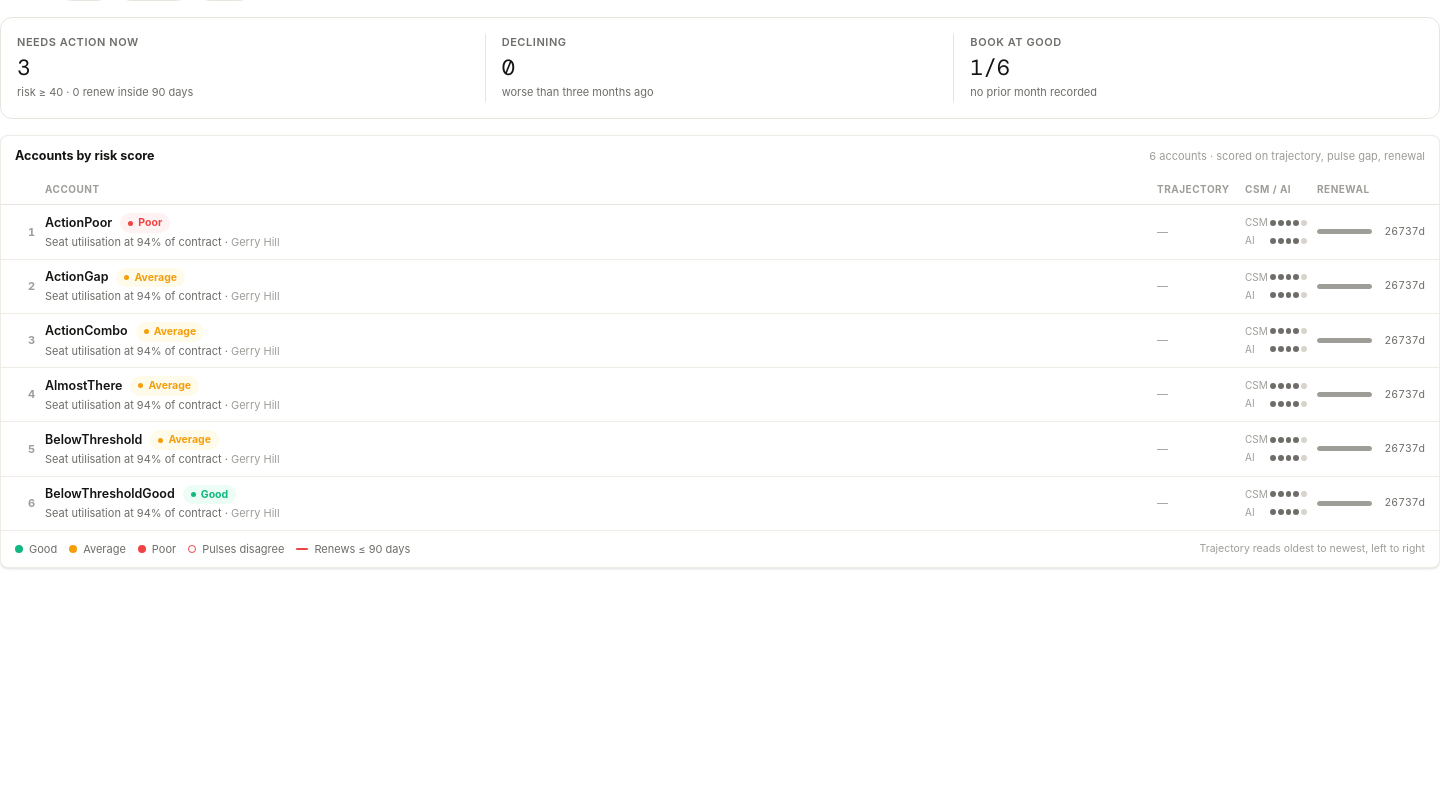
Test: TriageView drill › "Needs action now" opens exactly the accounts scoring at or above the threshold
Click the button with aria-label "Needs action now 3, show accounts" at (78, 42), box [13, 30, 465, 104]
(page scrolled)
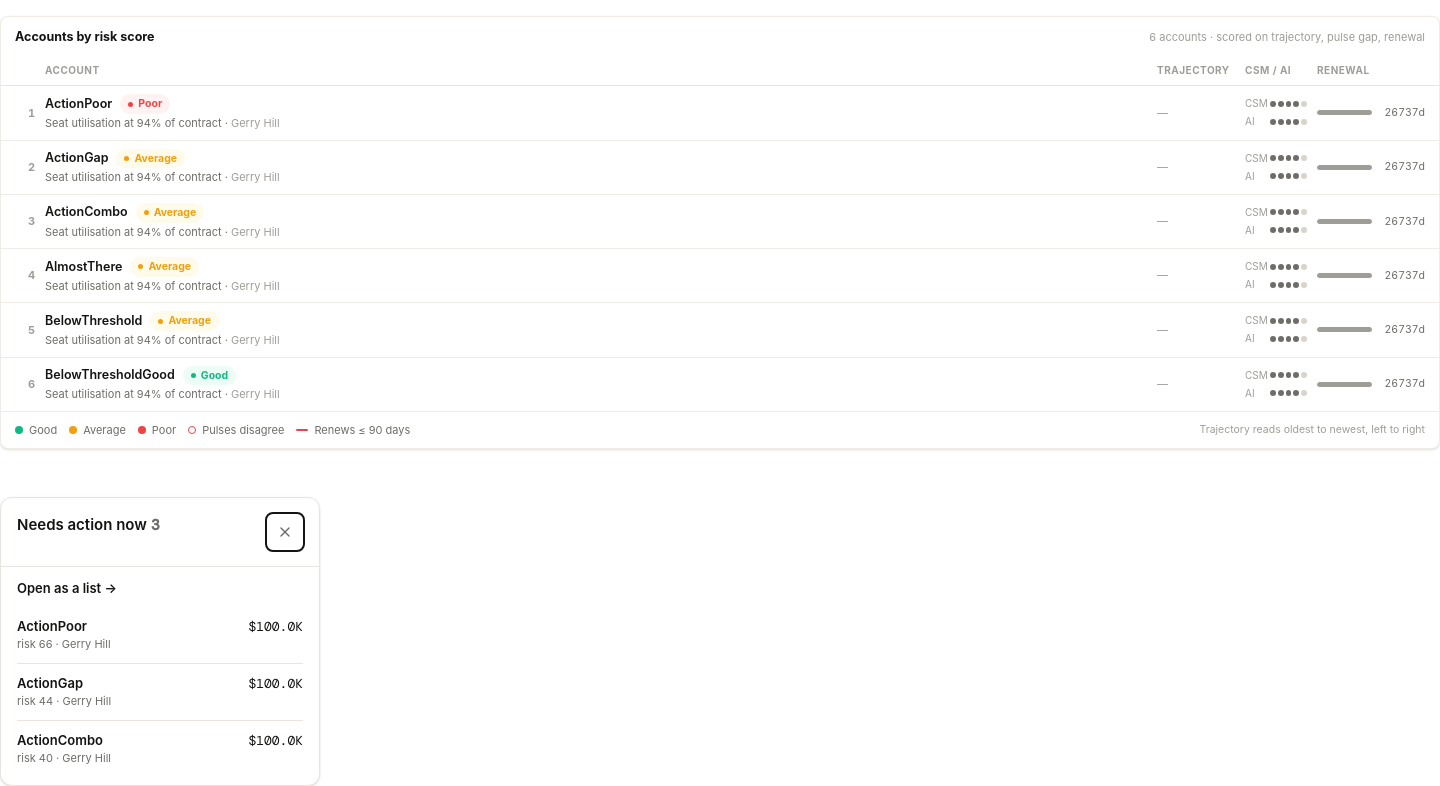
Expected: the link "ActionPoor" is shown, [17, 618, 87, 634]
Expected: the link "ActionGap" is shown, [17, 675, 83, 691]
Expected: the link "ActionCombo" is shown, [17, 731, 111, 750]
